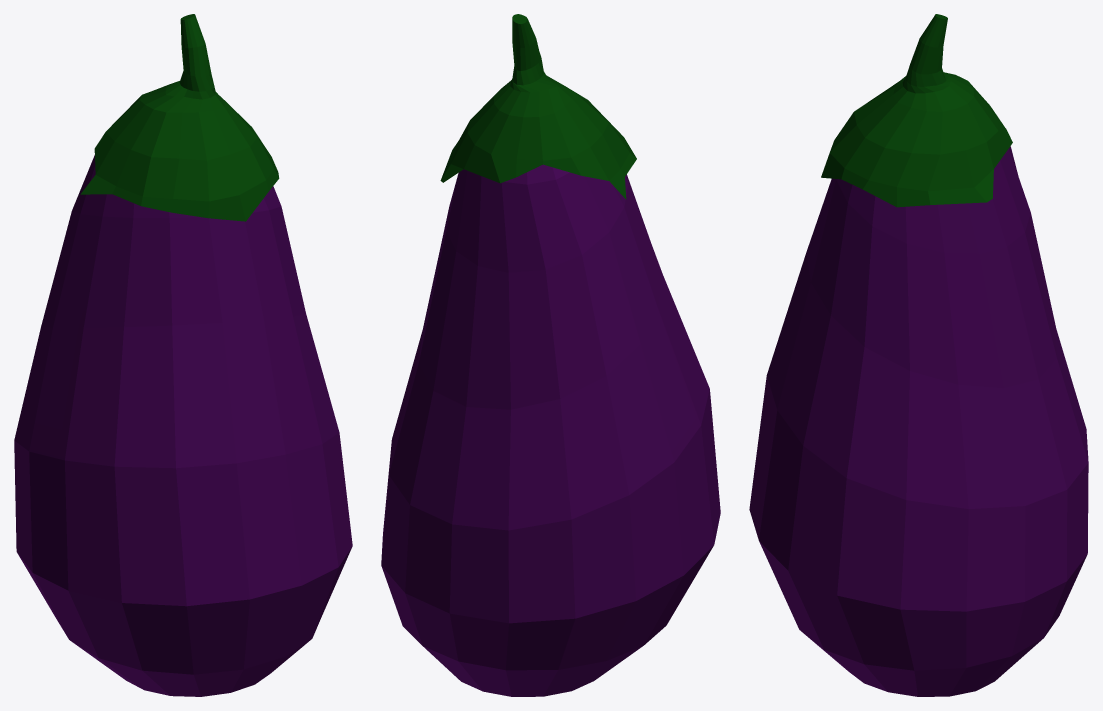
The model's file is Beren.fbx.
3 renders of one model, left to right at view 1: azimuth 30°, elevation 25°; view 2: azimuth 150°, elevation 25°; view 3: azimuth 270°, elevation 25°, orthographic.
Visible parts, largest first — view 1: RetopoFlow.002; view 2: RetopoFlow.002; view 3: RetopoFlow.002.
Boxes of the visible parts, x1,y1,x2,y2 form: RetopoFlow.002: [14, 14, 352, 696]; RetopoFlow.002: [381, 14, 720, 696]; RetopoFlow.002: [749, 14, 1088, 696].
Bounding box in the file's own units: 132 × 283 × 133.
